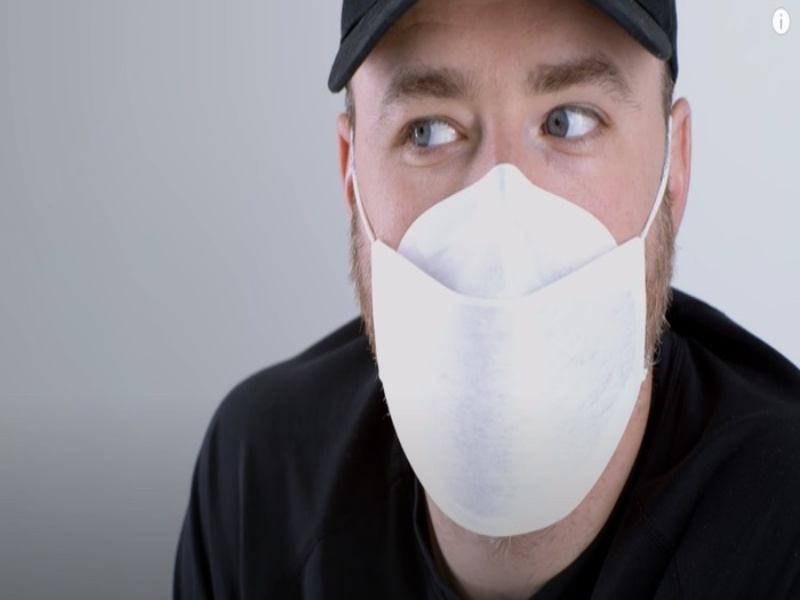mask: (359, 164, 657, 540)
